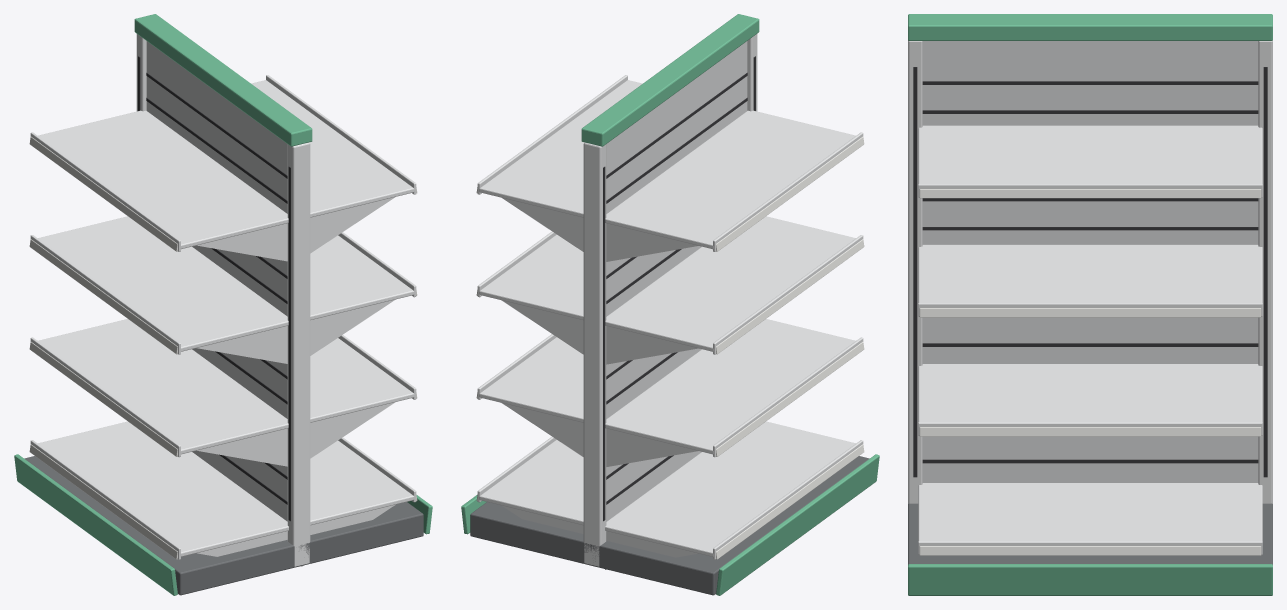
File: gondola_bay.glb
3 views of the same model, side by side, from view 1: azimuth 30°, elevation 25°; view 2: azimuth 150°, elevation 25°; view 3: azimuth 270°, elevation 25° (orthographic). The views are drawn at different scales.
Parts seen in each view (by area): view 1: Cube.003, Cube.056, Cube.044, Cube.050, Cube.038, Cube.032, Cube, Cube.059, Cube.062, Cube.041, Cube.047, Cube.053 (+25 smaller); view 2: Cube.003, Cube.056, Cube.044, Cube.050, Cube.038, Cube, Cube.035, Cube.059, Cube.062, Cube.041, Cube.047, Cube.053 (+25 smaller); view 3: Cube.003, Cube.059, Cube.053, Cube.047, Cube.041, Cube.002, Cube.062, Cube.032, Cube.035, Cube, Cube.043, Cube.049 (+14 smaller).
Part boxes in pixels (x1,y1,x2,y2): Cube.003: (146,41,287,521); Cube.056: (38,110,288,249); Cube.044: (38,319,288,454); Cube.050: (38,216,288,351); Cube.038: (38,421,288,556); Cube.032: (287,142,310,566); Cube: (24,456,423,595); Cube.059: (251,80,414,217); Cube.062: (134,14,312,146); Cube.041: (310,440,414,525); Cube.047: (310,338,414,422); Cube.053: (310,235,414,320); Cube.003: (606,41,747,521); Cube.056: (605,110,855,249); Cube.044: (605,319,855,454); Cube.050: (605,216,855,351); Cube.038: (605,421,855,556); Cube: (470,456,869,595); Cube.035: (583,142,606,566); Cube.059: (479,80,642,217); Cube.062: (581,14,759,146); Cube.041: (479,440,583,525); Cube.047: (479,337,583,422); Cube.053: (479,235,583,320); Cube.003: (922,41,1258,482); Cube.059: (918,125,1262,183); Cube.053: (918,244,1262,302); Cube.047: (918,364,1262,421); Cube.041: (918,483,1262,540); Cube.002: (908,564,1272,595); Cube.062: (908,14,1272,40); Cube.032: (908,40,922,503); Cube.035: (1258,40,1272,503); Cube: (908,503,1272,564); Cube.043: (919,546,1261,555); Cube.049: (919,427,1261,436).
Bounding box in the file's own units: 1.2 × 1.94 × 1.25.
